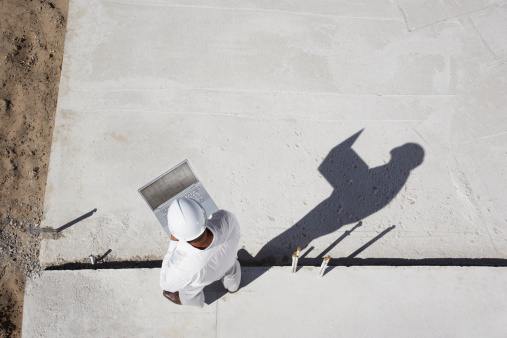em pe: (155, 196, 268, 322)
